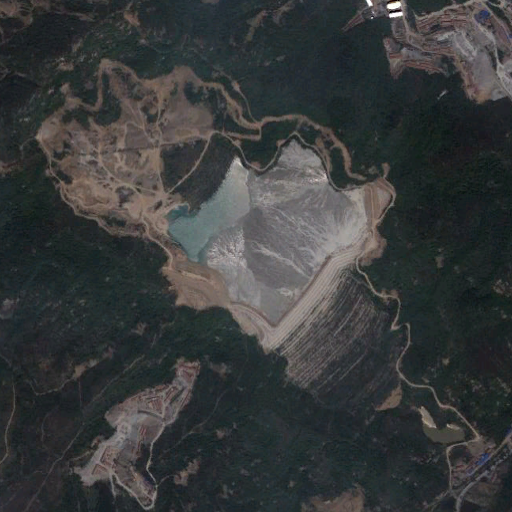tp: (170, 138, 410, 414)
